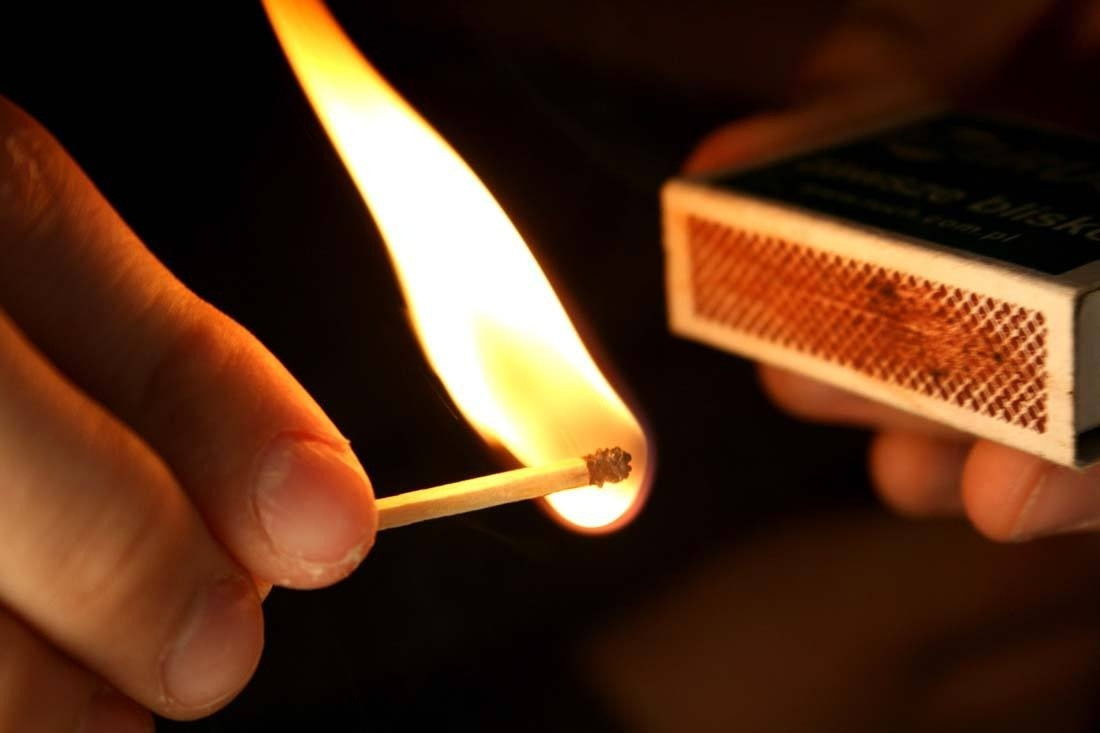fire: (277, 0, 665, 533)
